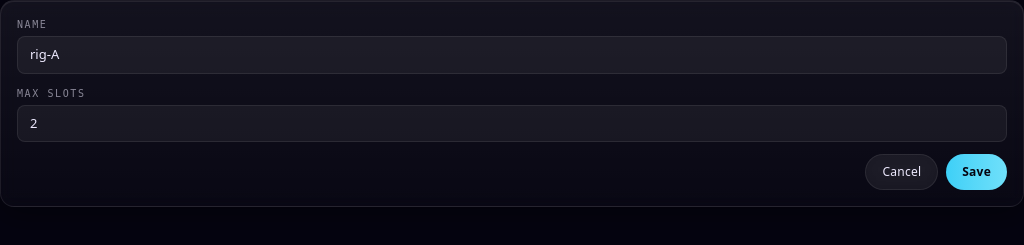
rejects max slots value 2.5
Replace the text in the number field labelled "Max slots" with "2.5" at {"x": 512, "y": 123}, box [17,104,1007,142]
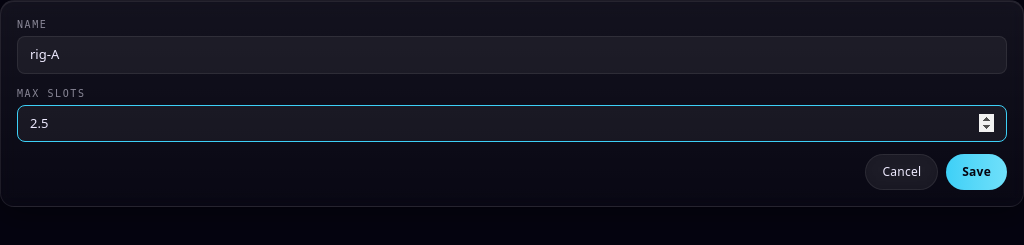
Click the button "Save".
click(977, 172)  # box [946,154,1007,190]
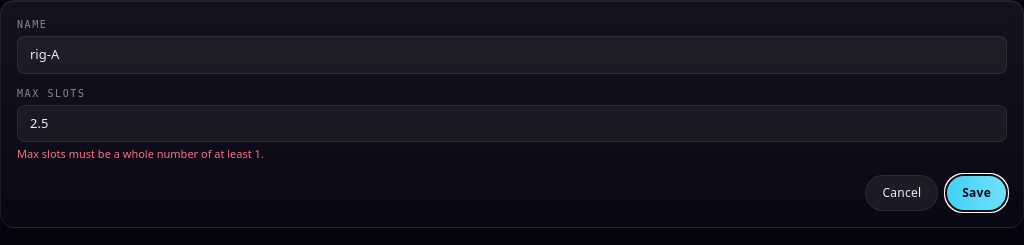
Now the text "Max slots must be a whole number of at least 1." is shown, box [17,146,264,161]
